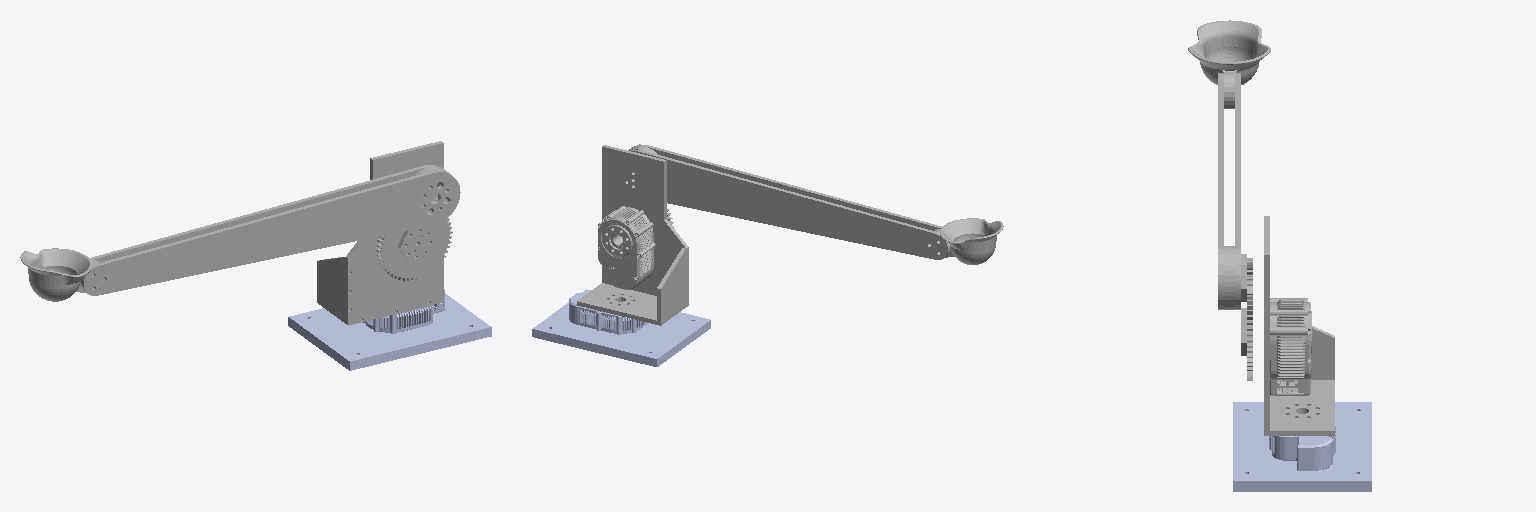
robot.urdf — ThrowerAssem:
<?xml version="1.0" encoding="utf-8"?>
<robot
  name="ThrowerAssem">
  <link name="world"/>

  <joint name="initial" type="fixed">
    <parent   link="world"/>
    <child    link="base_link"/>
    <origin   xyz="0 0 0" rpy="0 0 0"/>
  </joint>
  <link
    name="base_link">
    <inertial>
      <origin
        xyz="0.0051267710101028 0.0127215128802038 -0.000528503954166201"
        rpy="0 0 0" />
      <mass
        value="0.535648898210691" />
      <inertia
        ixx="0.00076712451970603"
        ixy="-5.14044040712985E-08"
        ixz="4.57501875352832E-06"
        iyy="0.00210571129061903"
        iyz="7.37057571159312E-08"
        izz="0.00134839590254976" />
    </inertial>
    <visual>
      <origin
        xyz="0 0 0"
        rpy="0 0 0" />
      <geometry>
        <mesh
          filename="package://ME134/meshes/base_link.STL" />
      </geometry>
      <material
        name="">
        <color
          rgba="0.792156862745098 0.819607843137255 0.933333333333333 1" />
      </material>
    </visual>
    <collision>
      <origin
        xyz="0 0 0"
        rpy="0 0 0" />
      <geometry>
        <mesh
          filename="package://ME134/meshes/base_link.STL" />
      </geometry>
    </collision>
  </link>
  <link
    name="Transmission_Link">
    <inertial>
      <origin
        xyz="-0.00923151634377413 0.0830736816010024 0.0228926658254896"
        rpy="0 0 0" />
      <mass
        value="0.563828955662916" />
      <inertia
        ixx="0.000818270882011067"
        ixy="-7.80695797391084E-05"
        ixz="-9.79486309938041E-08"
        iyy="0.000454795879043847"
        iyz="-2.62045952627472E-06"
        izz="0.00117620298209425" />
    </inertial>
    <visual>
      <origin
        xyz="0 0 0"
        rpy="0 0 0" />
      <geometry>
        <mesh
          filename="package://ME134/meshes/Transmission_Link.STL" />
      </geometry>
      <material
        name="">
        <color
          rgba="0.752941176470588 0.752941176470588 0.752941176470588 1" />
      </material>
    </visual>
    <collision>
      <origin
        xyz="0 0 0"
        rpy="0 0 0" />
      <geometry>
        <mesh
          filename="package://ME134/meshes/Transmission_Link.STL" />
      </geometry>
    </collision>
  </link>
  <joint
    name="Pan"
    type="continuous">
    <origin
      xyz="0.002 0 0.04375"
      rpy="1.5708 0 0" />
    <parent
      link="base_link" />
    <child
      link="Transmission_Link" />
    <axis
      xyz="0 1 0" />
  </joint>
  <link
    name="Arm">
    <inertial>
      <origin
        xyz="-0.000955547440708304 -0.232556869769114 0.0454225953251871"
        rpy="0 0 0" />
      <mass
        value="0.528520553412963" />
      <inertia
        ixx="0.00913331942642631"
        ixy="-7.68410095250739E-06"
        ixz="1.23665893255089E-10"
        iyy="0.000167153525659923"
        iyz="6.58584316649067E-11"
        izz="0.00925672222624268" />
    </inertial>
    <visual>
      <origin
        xyz="0 0 0"
        rpy="0 0 0" />
      <geometry>
        <mesh
          filename="package://ME134/meshes/Arm.STL" />
      </geometry>
      <material
        name="">
        <color
          rgba="0.752941176470588 0.752941176470588 0.752941176470588 1" />
      </material>
    </visual>
    <collision>
      <origin
        xyz="0 0 0"
        rpy="0 0 0" />
      <geometry>
        <mesh
          filename="package://ME134/meshes/Arm.STL" />
      </geometry>
    </collision>
  </link>


  <joint
    name="Tilt"
    type="continuous">
    <origin
      xyz="0.01 0.16933 0.033115"
      rpy="0 0 -1.5708" />
    <parent
      link="Transmission_Link" />
    <child
      link="Arm" />
    <axis
      xyz="0 0 1" />
  </joint>
  
  <link name="Tip"/>
  
<!-- CHANGE THE VALUE HERE TO ADJUST POSITION OF SCOOP ORIGIN -->
  <joint name="Scoop" type="fixed">
  <origin
      xyz="0.0 -0.529 0.0454"
      rpy="0 0 0" />
    <parent
      link="Arm" />
    <child
      link="Tip" />
   
  </joint>
  
</robot>

--- Facts derived from the render (not from the file) ---
Views: 3 orthographic renders of the robot side by side, from view 1: azimuth 30°, elevation 25°; view 2: azimuth 150°, elevation 25°; view 3: azimuth 270°, elevation 25°.
Robot: ThrowerAssem — 5 links, 4 joints (2 continuous, 2 fixed); root link world; default pose: all joints at 0.
Visible links, largest first — view 1: Arm, Transmission_Link, base_link; view 2: Arm, Transmission_Link, base_link; view 3: Transmission_Link, base_link, Arm.
Boxes of the visible links, x1=… form: Arm: x1=20, y1=165, x2=460, y2=301; Transmission_Link: x1=317, y1=141, x2=452, y2=325; base_link: x1=288, y1=289, x2=491, y2=370; Arm: x1=628, y1=144, x2=1003, y2=264; Transmission_Link: x1=577, y1=145, x2=688, y2=325; base_link: x1=532, y1=289, x2=710, y2=366; Transmission_Link: x1=1241, y1=216, x2=1334, y2=435; base_link: x1=1233, y1=402, x2=1371, y2=491; Arm: x1=1188, y1=20, x2=1270, y2=309.
Size in the robot's own frame: 0.6601 by 0.1985 by 0.2588 metres.
Meshes: 3 distinct files referenced, 3 mesh visuals loaded (3 binary STL).